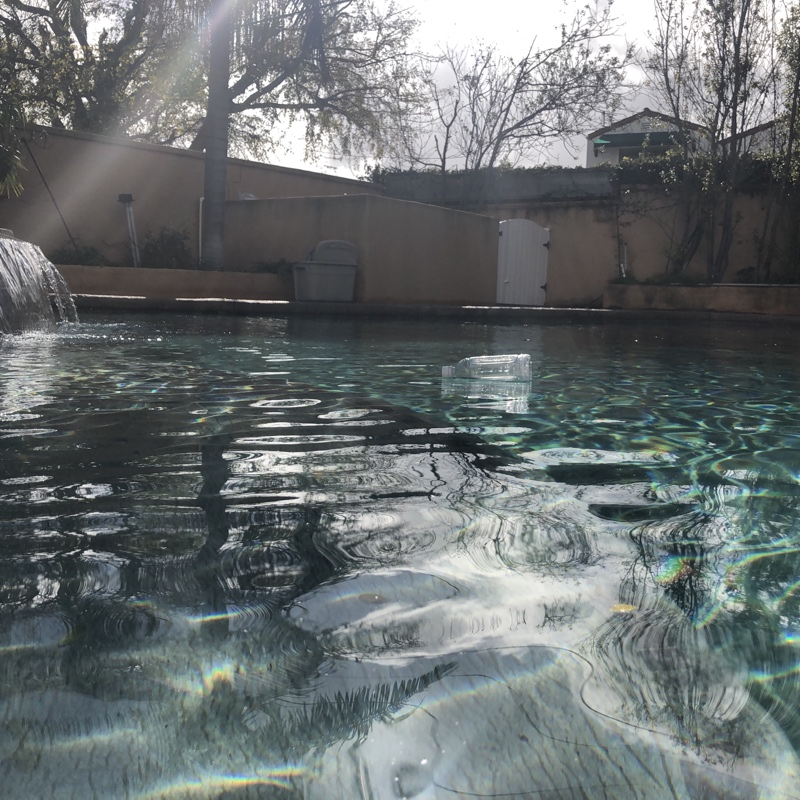Plastic Bottle: (437, 350, 534, 386)
